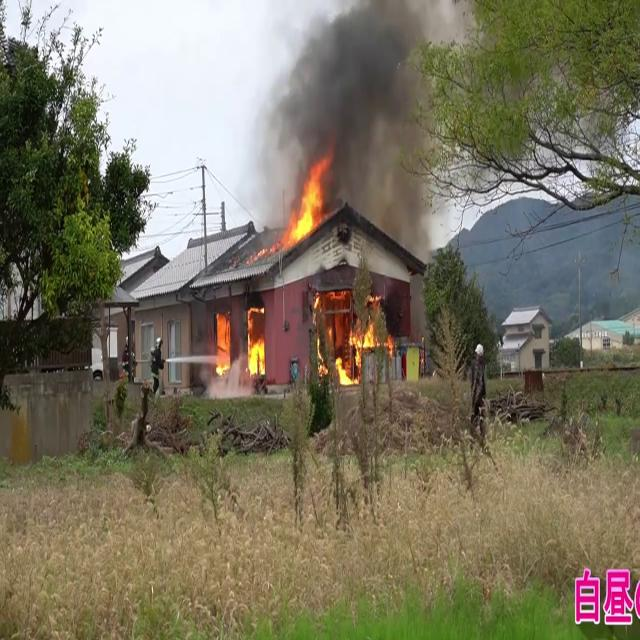Fire: (317, 307, 385, 385), (287, 152, 333, 248), (210, 314, 268, 388), (331, 313, 382, 386)
Smoke: (260, 0, 444, 243)
